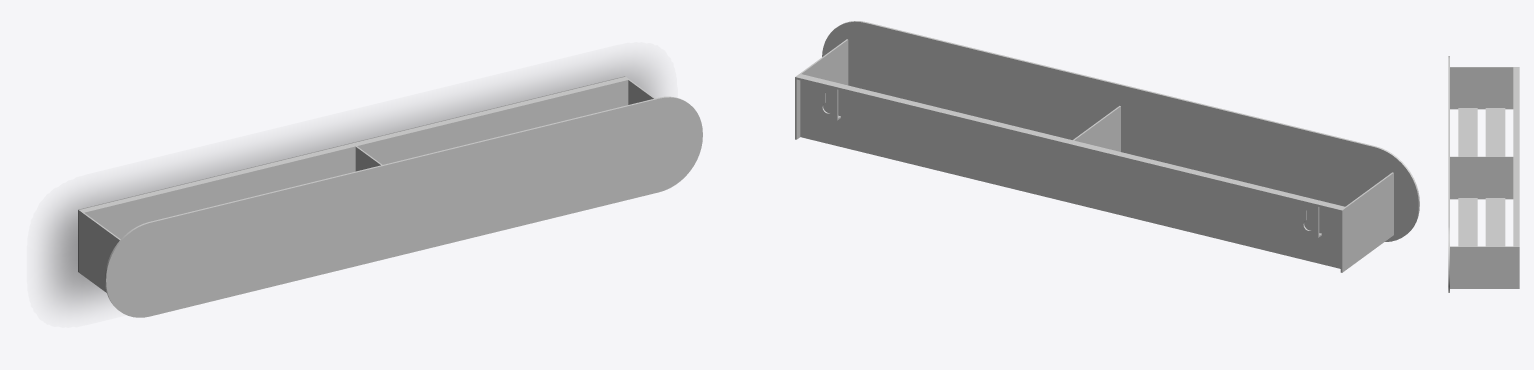
Rendered from round-mono.2410fd6fa1.ar.glb.
3 renders of one model, left to right at view 1: azimuth 30°, elevation 25°; view 2: azimuth 150°, elevation 25°; view 3: azimuth 270°, elevation 25°, orthographic. The views are drawn at different scales.
Parts seen in each view (by area): view 1: NAUO1, object 2; view 2: NAUO1; view 3: NAUO1.
Boxes of the visible parts, x1,y1,x2,y2 form: NAUO1: (78, 76, 702, 317); object 2: (45, 64, 657, 305); NAUO1: (795, 21, 1419, 272); NAUO1: (1448, 56, 1519, 292).
Size of the model in its own units: 0.68 by 0.17 by 0.092.
2 materials, 1 textured.
